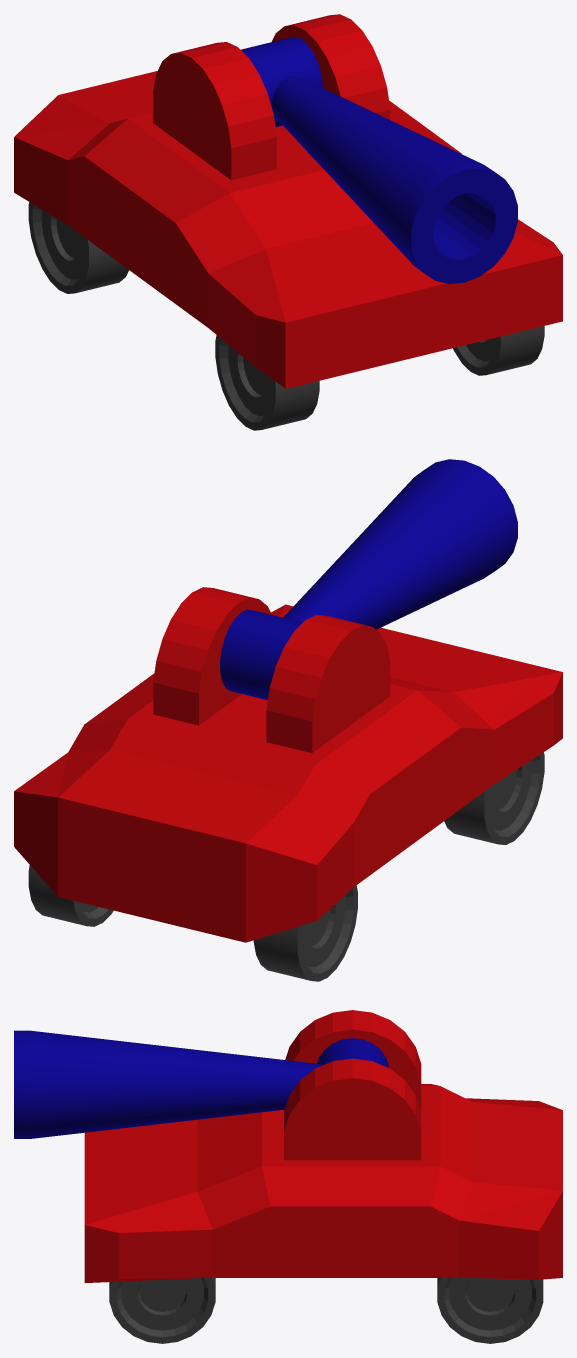
Rendered from golf.glb.
3 renders of one model, top to bottom at view 1: azimuth 30°, elevation 25°; view 2: azimuth 150°, elevation 25°; view 3: azimuth 270°, elevation 25°, orthographic. The views are drawn at different scales.
Parts seen in each view (by area): view 1: tankbody, barrel, wheelfrontright, wheelbackright, wheelfrontleft; view 2: tankbody, barrel, wheelbackright, wheelfrontright, wheelbackleft; view 3: tankbody, barrel, wheelbackleft, wheelfrontleft.
Part boxes in pixels (x1=…): tankbody: x1=14, y1=14, x2=562, y2=388; barrel: x1=241, y1=37, x2=517, y2=283; wheelfrontright: x1=215, y1=335, x2=319, y2=430; wheelbackright: x1=28, y1=202, x2=128, y2=293; wheelfrontleft: x1=453, y1=326, x2=544, y2=375; tankbody: x1=14, y1=587, x2=562, y2=942; barrel: x1=220, y1=459, x2=517, y2=700; wheelbackright: x1=253, y1=885, x2=357, y2=981; wheelfrontright: x1=444, y1=752, x2=544, y2=844; wheelbackleft: x1=28, y1=865, x2=113, y2=926; tankbody: x1=84, y1=1010, x2=562, y2=1282; barrel: x1=14, y1=1030, x2=388, y2=1138; wheelbackleft: x1=437, y1=1277, x2=543, y2=1343; wheelfrontleft: x1=109, y1=1277, x2=215, y2=1343.
Size of the model in its own units: 0.5757 by 0.5184 by 1.03.
